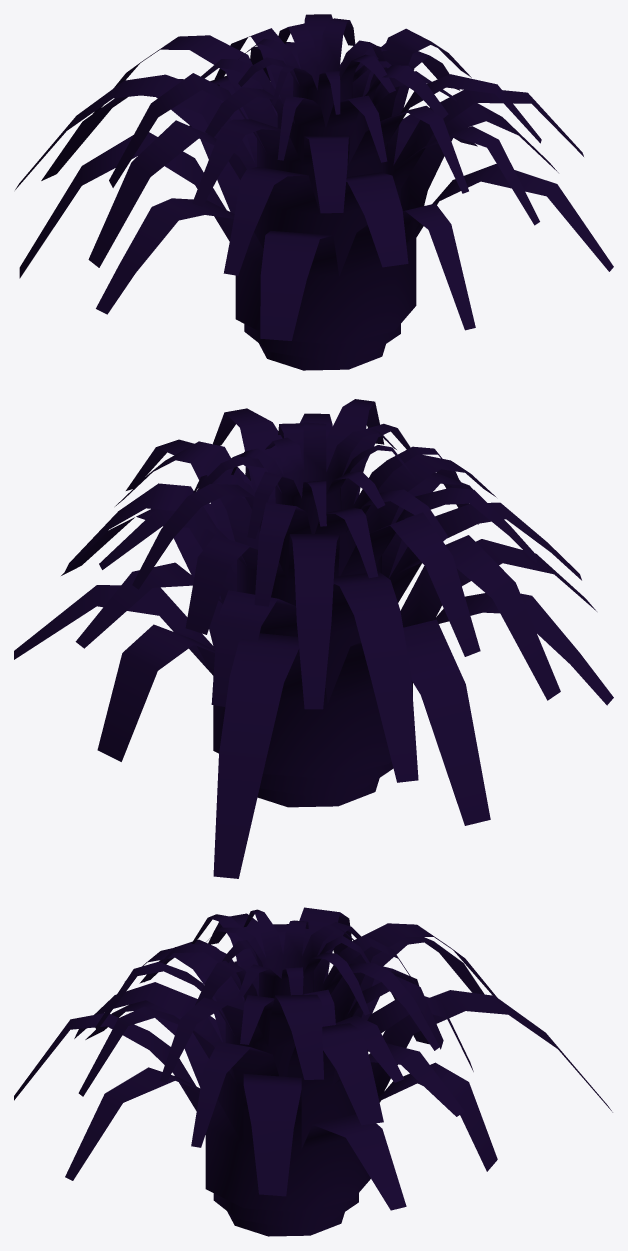
The model's file is boosh.fbx.
3 renders of one model, top to bottom at view 1: azimuth 30°, elevation 25°; view 2: azimuth 150°, elevation 25°; view 3: azimuth 270°, elevation 25°, orthographic. The views are drawn at different scales.
Visible parts, largest first — view 1: Cylinder, Cylinder.001, Cylinder.002, Cylinder.003, Cylinder.004; view 2: Cylinder, Cylinder.001, Cylinder.002, Cylinder.003, Cylinder.004; view 3: Cylinder, Cylinder.001, Cylinder.002, Cylinder.003, Cylinder.004.
Boxes of the visible parts, <box> form: Cylinder: <box>19,79,613,344</box>; Cylinder.001: <box>15,43,583,360</box>; Cylinder.002: <box>89,28,541,370</box>; Cylinder.003: <box>201,14,456,165</box>; Cylinder.004: <box>238,18,395,127</box>; Cylinder: <box>14,467,613,878</box>; Cylinder.001: <box>63,413,581,796</box>; Cylinder.002: <box>99,399,537,807</box>; Cylinder.003: <box>132,423,466,606</box>; Cylinder.004: <box>197,422,414,538</box>; Cylinder: <box>14,961,612,1212</box>; Cylinder.001: <box>74,937,484,1227</box>; Cylinder.002: <box>95,907,497,1236</box>; Cylinder.003: <box>144,914,439,1050</box>; Cylinder.004: <box>205,909,378,1015</box>.
Bounding box in the file's own units: 656 × 396 × 777.
